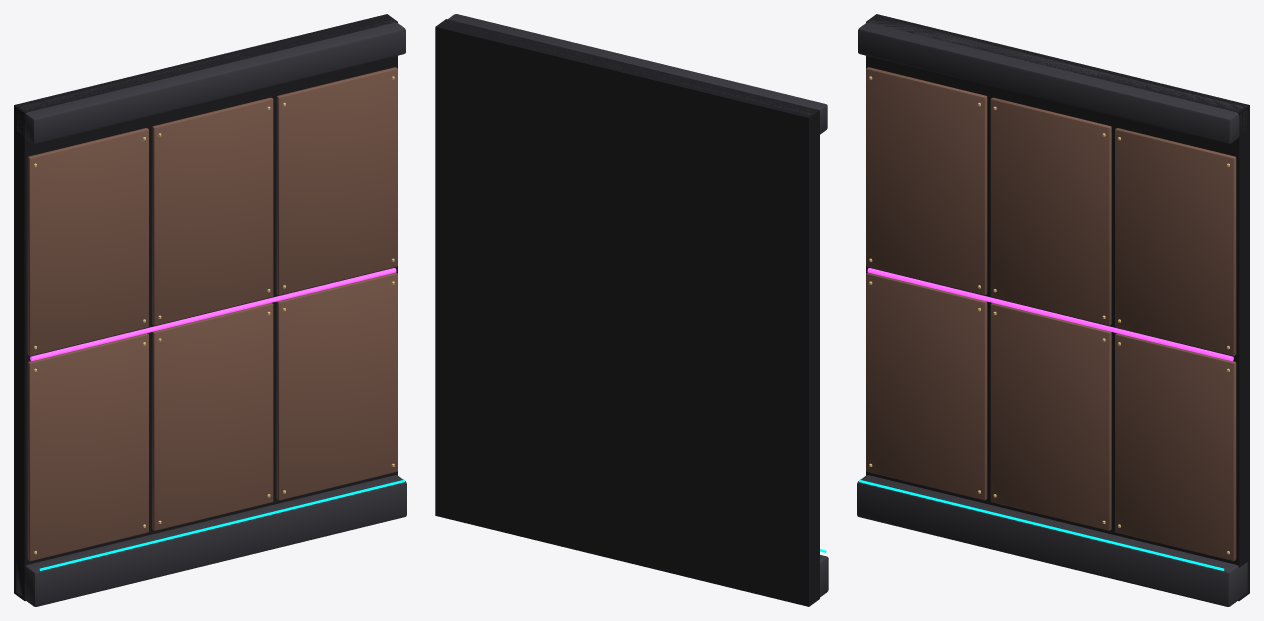
Rendered from KIT_Parede_Lisa.glb.
3 views of the same model, side by side, from view 1: azimuth 30°, elevation 25°; view 2: azimuth 150°, elevation 25°; view 3: azimuth 330°, elevation 25° (orthographic).
Visible parts, largest first — view 1: KIT_Parede_Lisa; view 2: KIT_Parede_Lisa; view 3: KIT_Parede_Lisa.
Boxes of the visible parts, x1,y1,x2,y2 form: KIT_Parede_Lisa: (14,14,406,606); KIT_Parede_Lisa: (435,14,828,606); KIT_Parede_Lisa: (857,14,1249,606).
Bounding box in the file's own units: 2.4 × 3 × 0.2469.
